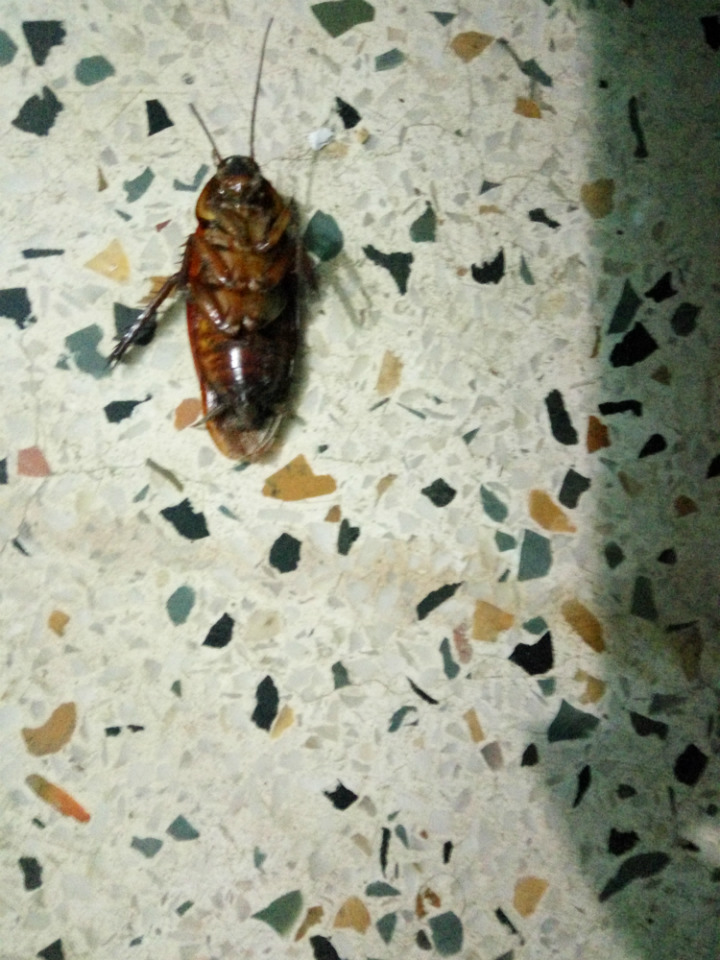cockroach: (93, 9, 413, 528)
